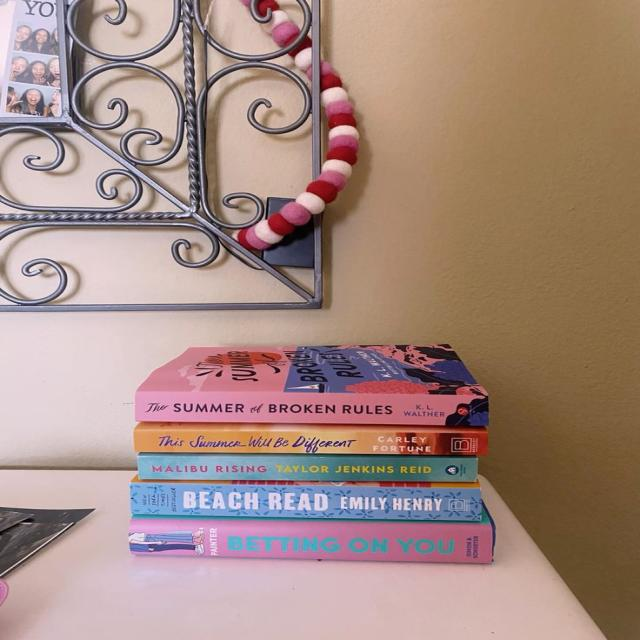book: (129, 518, 495, 564), (131, 482, 481, 520), (136, 390, 487, 424), (134, 422, 487, 455), (139, 454, 477, 481)
